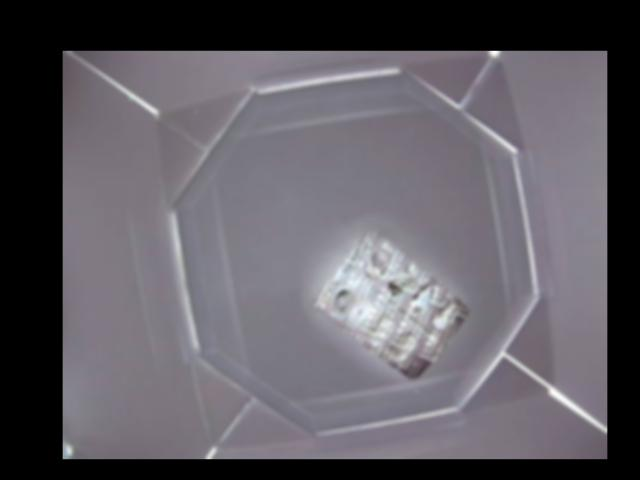Medicine: (313, 230, 467, 379)
